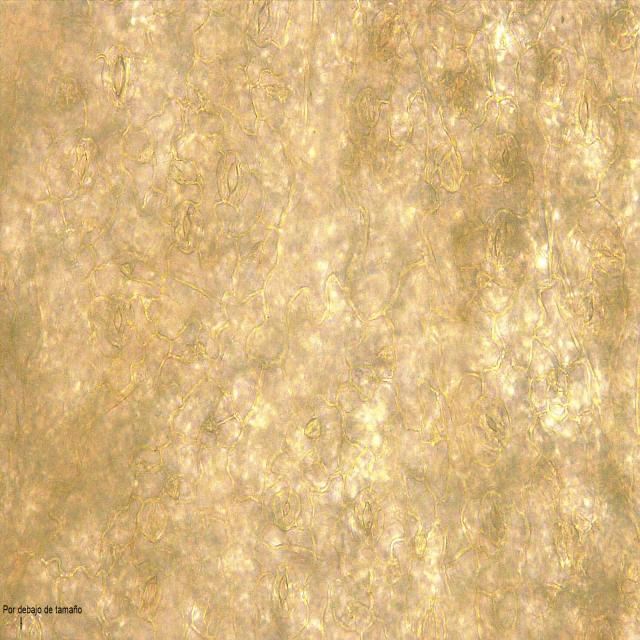Stomata: (567, 77, 605, 146), (100, 43, 139, 109), (469, 394, 512, 453), (131, 562, 170, 624), (482, 206, 521, 268), (348, 486, 386, 549), (215, 148, 252, 207), (366, 6, 403, 63), (100, 291, 136, 349), (171, 198, 205, 256), (65, 138, 100, 194), (267, 561, 300, 618), (488, 132, 523, 184), (247, 0, 281, 50), (412, 597, 448, 640), (271, 487, 302, 531)
